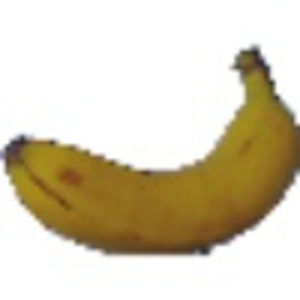banana: (5, 40, 297, 258)
